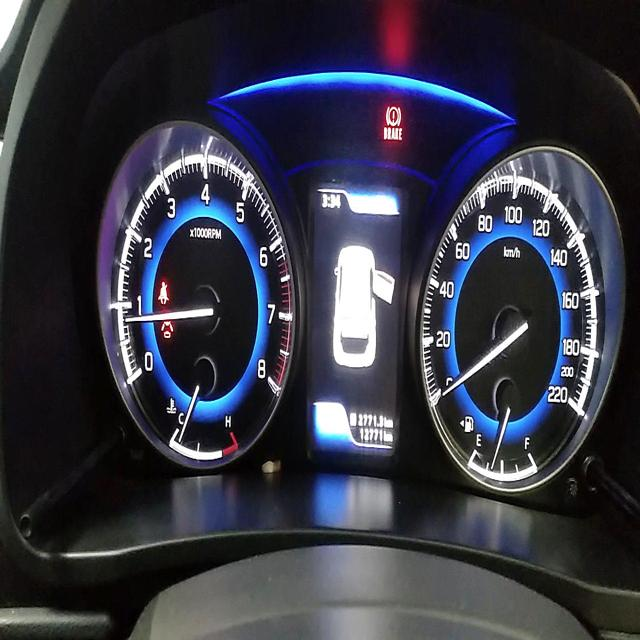odometer: (359, 426, 385, 448)
